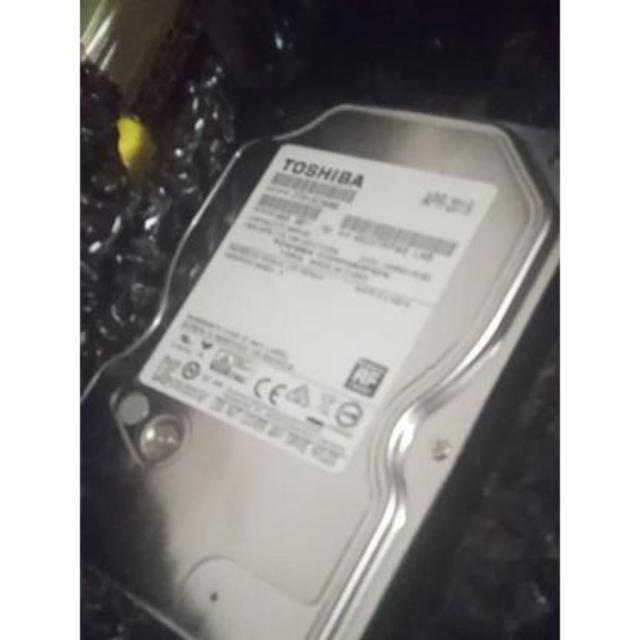DISK: (77, 88, 560, 640)
